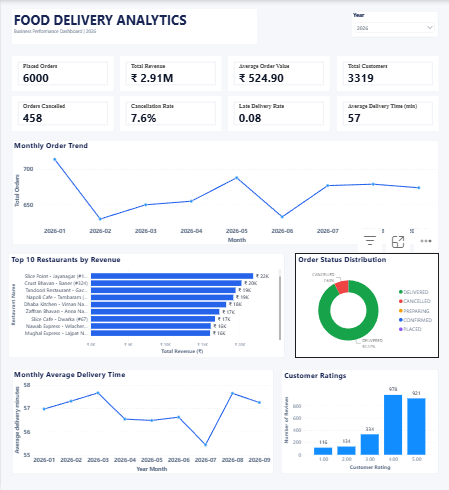

This screenshot's page, from the dashboard's own definition file:
{"tool":"powerbi","page":{"name":"Food Delivery Analytics","canvas":[1280,1400],"ordinal":0},"visuals":[{"type":"lineChart","title":"Monthly Order Trend","fields":{"Category":["DIM_DATE.Year Month"],"Y":["FACT_ORDERS.Total Orders"]},"box":[30,400,1220,300],"z":4000},{"type":"clusteredBarChart","title":"Top 10 Restaurants by Revenue","fields":{"Category":["DIM_RESTAURANT.Restaurant Label"],"Y":["FACT_ORDERS.Total Revenue"]},"box":[20,722,790,300],"z":5000},{"type":"donutChart","title":"Order Status Distribution","fields":{"Category":["FACT_ORDERS.ORDER_STATUS"],"Y":["FACT_ORDERS.Total Orders"]},"box":[840,722,410,300],"z":6000},{"type":"clusteredColumnChart","title":"Customer Ratings","fields":{"Category":["FACT_REVIEWS.restaurant_rating"],"Y":["Count(FACT_REVIEWS.review_id)"]},"box":[800,1055,450,300],"z":7000},{"type":"slicer","title":"Year","fields":{"Values":["DIM_DATE.YEAR"]},"box":[1000,30,250,75],"z":9000},{"type":"textbox","box":[30,25,700,100],"z":10000},{"type":"cardVisual","fields":{"Data":["FACT_ORDERS.Average Order Value"]},"box":[650,160,290,100],"z":11004},{"type":"cardVisual","fields":{"Data":["DIM_CUSTOMER.Total Customers"]},"box":[960,160,290,100],"z":11005},{"type":"cardVisual","fields":{"Data":["FACT_ORDERS.Total Orders"]},"box":[30,160,290,100],"z":11006},{"type":"cardVisual","fields":{"Data":["FACT_ORDERS.Cancellation %"]},"box":[340,275,290,100],"z":11007},{"type":"cardVisual","fields":{"Data":["FACT_ORDERS.Orders Cancelled"]},"box":[30,275,290,100],"z":11008},{"type":"cardVisual","fields":{"Data":["FACT_ORDERS.Late %"]},"box":[650,275,290,100],"z":11009},{"type":"cardVisual","fields":{"Data":["FACT_ORDERS.Total Revenue"]},"box":[340,160,290,100],"z":11010},{"type":"lineChart","title":"Monthly Average Delivery Time","fields":{"Category":["DIM_DATE.Year Month"],"Y":["Avg(FACT_ORDERS.DELIVERY_MINUTES)"]},"box":[30,1055,747.5,300],"z":11012},{"type":"cardVisual","fields":{"Data":["Avg(FACT_ORDERS.DELIVERY_MINUTES)"]},"box":[960,275,290,100],"z":11013}]}

Visuals, with their boxes in screenshot pixels (x1, y1, x2, y2), scaled from the page's 1280x1400 canvas onto the 449x490 screenshot:
"Monthly Order Trend" lineChart: [left=11, top=140, right=438, bottom=245]
"Top 10 Restaurants by Revenue" clusteredBarChart: [left=7, top=253, right=284, bottom=358]
"Order Status Distribution" donutChart: [left=295, top=253, right=438, bottom=358]
"Customer Ratings" clusteredColumnChart: [left=281, top=369, right=438, bottom=474]
"Year" slicer: [left=351, top=10, right=438, bottom=37]
textbox: [left=11, top=9, right=256, bottom=44]
cardVisual - FACT_ORDERS.Average Order Value: [left=228, top=56, right=330, bottom=91]
cardVisual - DIM_CUSTOMER.Total Customers: [left=337, top=56, right=438, bottom=91]
cardVisual - FACT_ORDERS.Total Orders: [left=11, top=56, right=112, bottom=91]
cardVisual - FACT_ORDERS.Cancellation %: [left=119, top=96, right=221, bottom=131]
cardVisual - FACT_ORDERS.Orders Cancelled: [left=11, top=96, right=112, bottom=131]
cardVisual - FACT_ORDERS.Late %: [left=228, top=96, right=330, bottom=131]
cardVisual - FACT_ORDERS.Total Revenue: [left=119, top=56, right=221, bottom=91]
"Monthly Average Delivery Time" lineChart: [left=11, top=369, right=273, bottom=474]
cardVisual - Avg(FACT_ORDERS.DELIVERY_MINUTES): [left=337, top=96, right=438, bottom=131]
